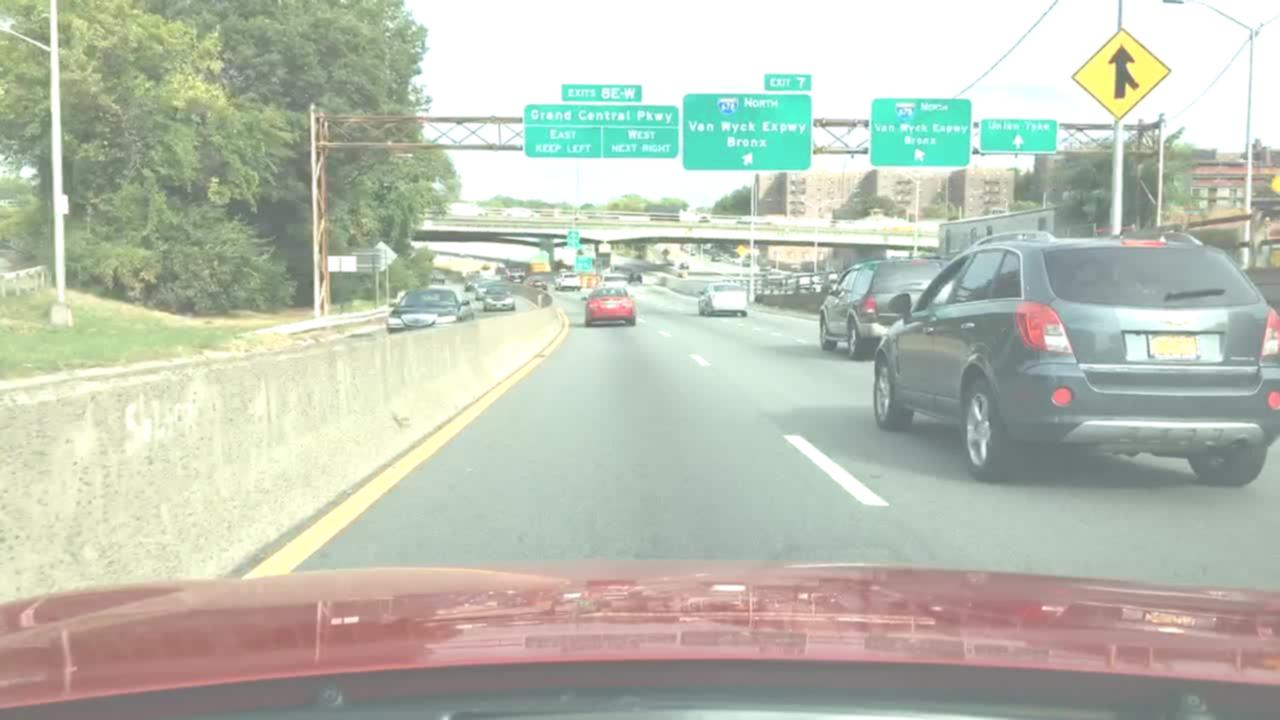chevrolet: (1158, 308, 1195, 332)
